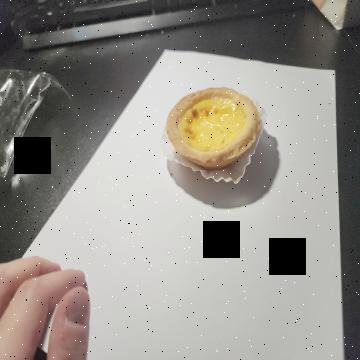EggTart: (166, 86, 261, 170)
